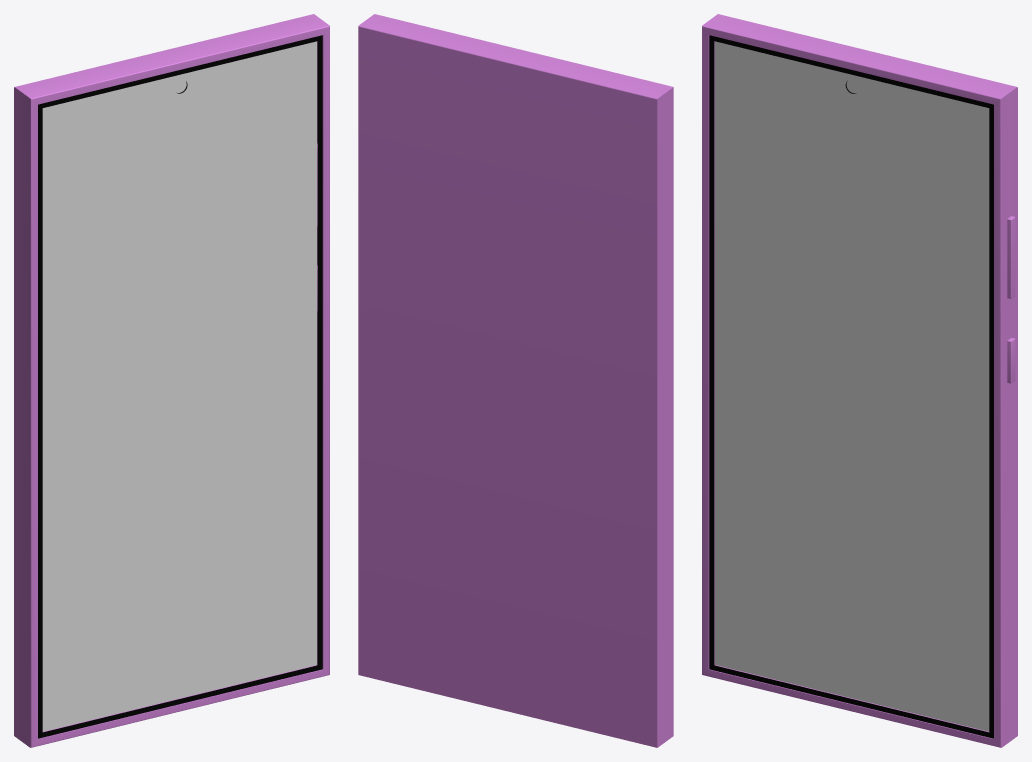
Rendered from android.gltf.
3 views of the same model, side by side, from view 1: azimuth 30°, elevation 25°; view 2: azimuth 150°, elevation 25°; view 3: azimuth 330°, elevation 25° (orthographic).
Visible parts, largest first — view 1: Screen.001, Glass, Phone, aroundphone; view 2: Phone; view 3: Screen.001, Glass, Phone, aroundphone, sidebutton1.
Part boxes in pixels (x1=…): Screen.001: x1=42, y1=41, x2=316, y2=731; Glass: x1=43, y1=42, x2=316, y2=731; Phone: x1=14, y1=14, x2=329, y2=747; aroundphone: x1=38, y1=35, x2=322, y2=738; Phone: x1=358, y1=14, x2=673, y2=747; Screen.001: x1=715, y1=41, x2=989, y2=731; Glass: x1=715, y1=42, x2=988, y2=731; Phone: x1=702, y1=14, x2=1017, y2=747; aroundphone: x1=709, y1=35, x2=993, y2=738; sidebutton1: x1=1007, y1=216, x2=1015, y2=298.
Size of the model in its own units: 3.58 by 7.32 by 0.3423.
